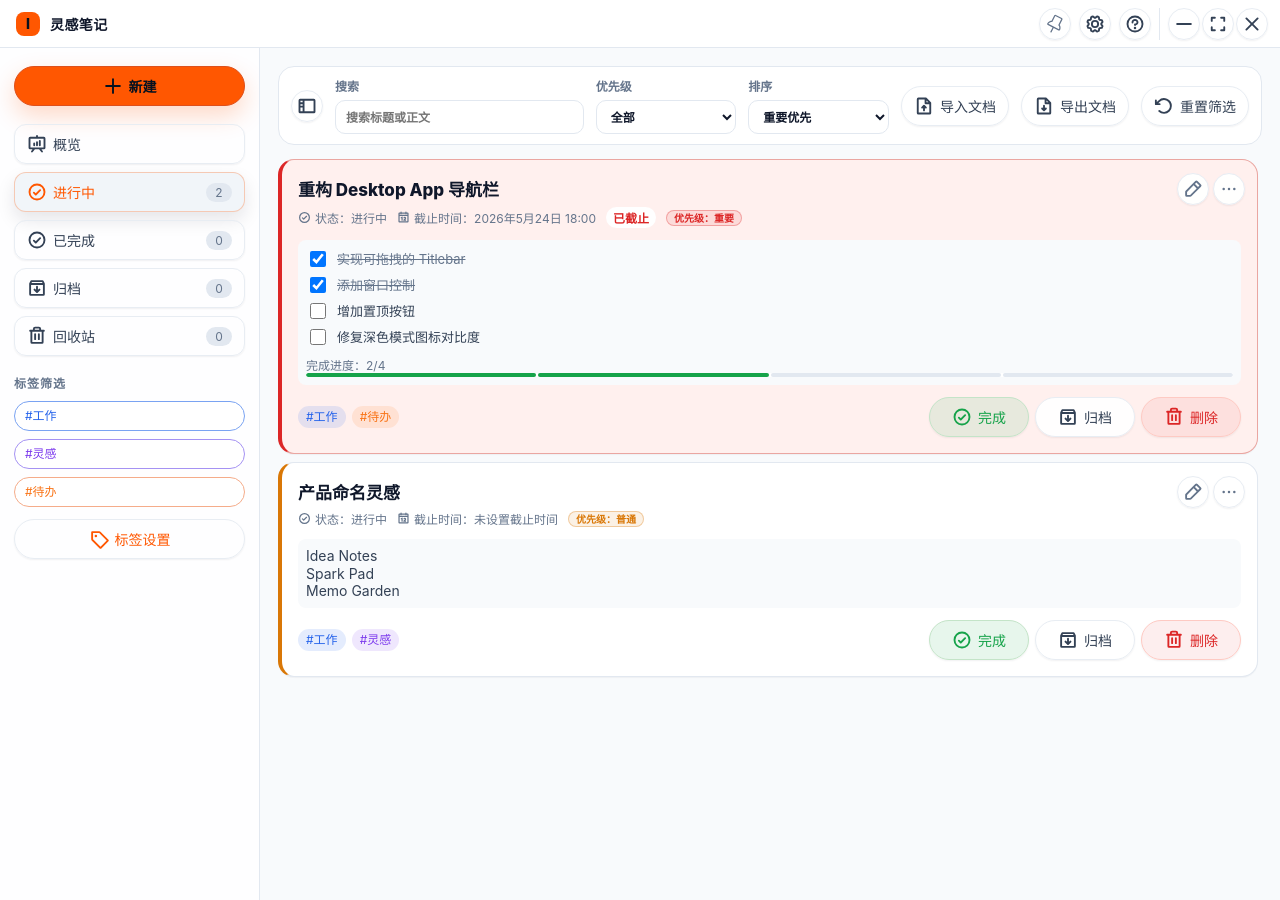
Test: App tags failure › 标签页旧输入错误不遮挡后续保存失败提示
Click the button "标签设置".
click(130, 539)  # box [14,519,245,559]
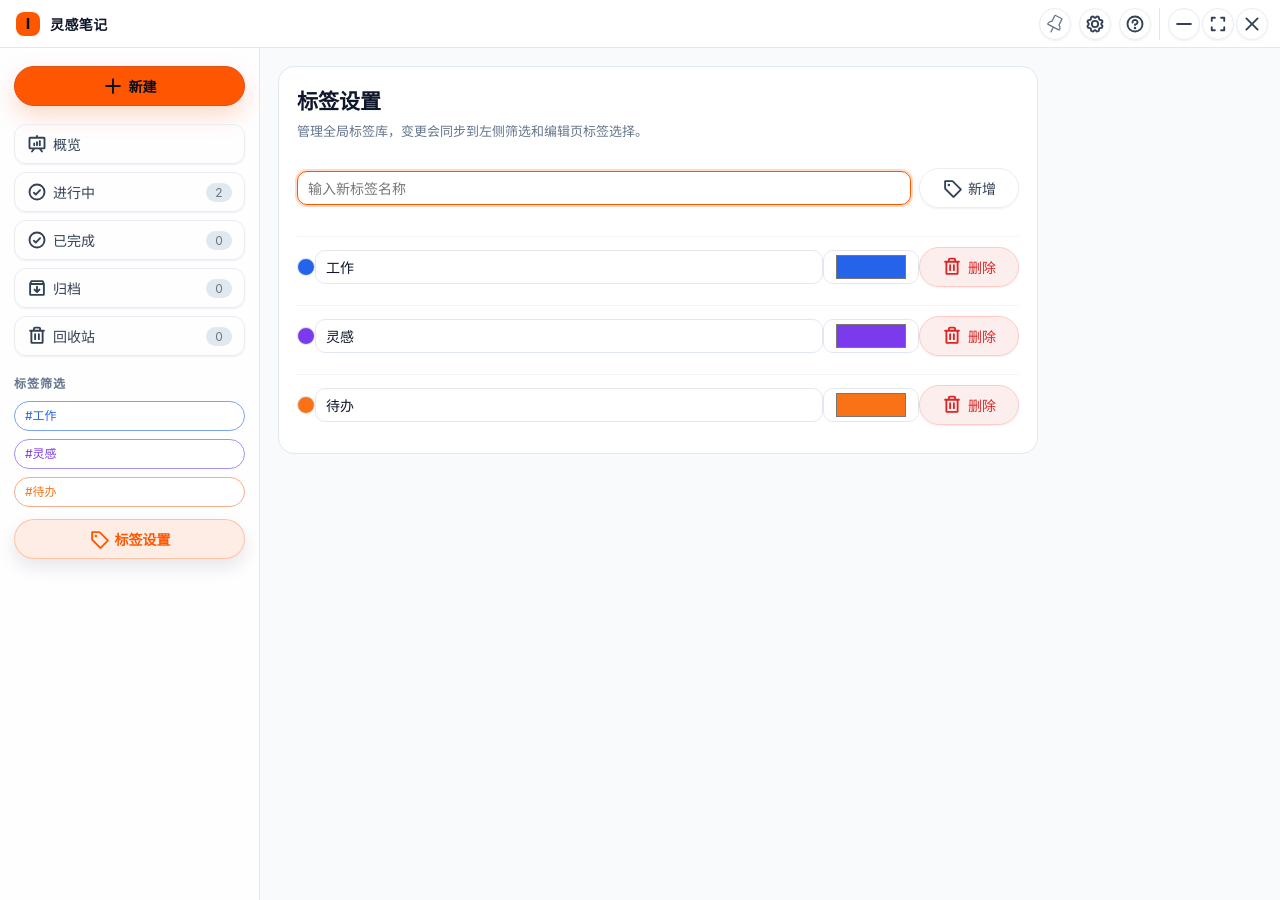
Type "工作" into the field with placeholder "输入新标签名称".
click(604, 188); type("工作")  # box [297,171,911,205]
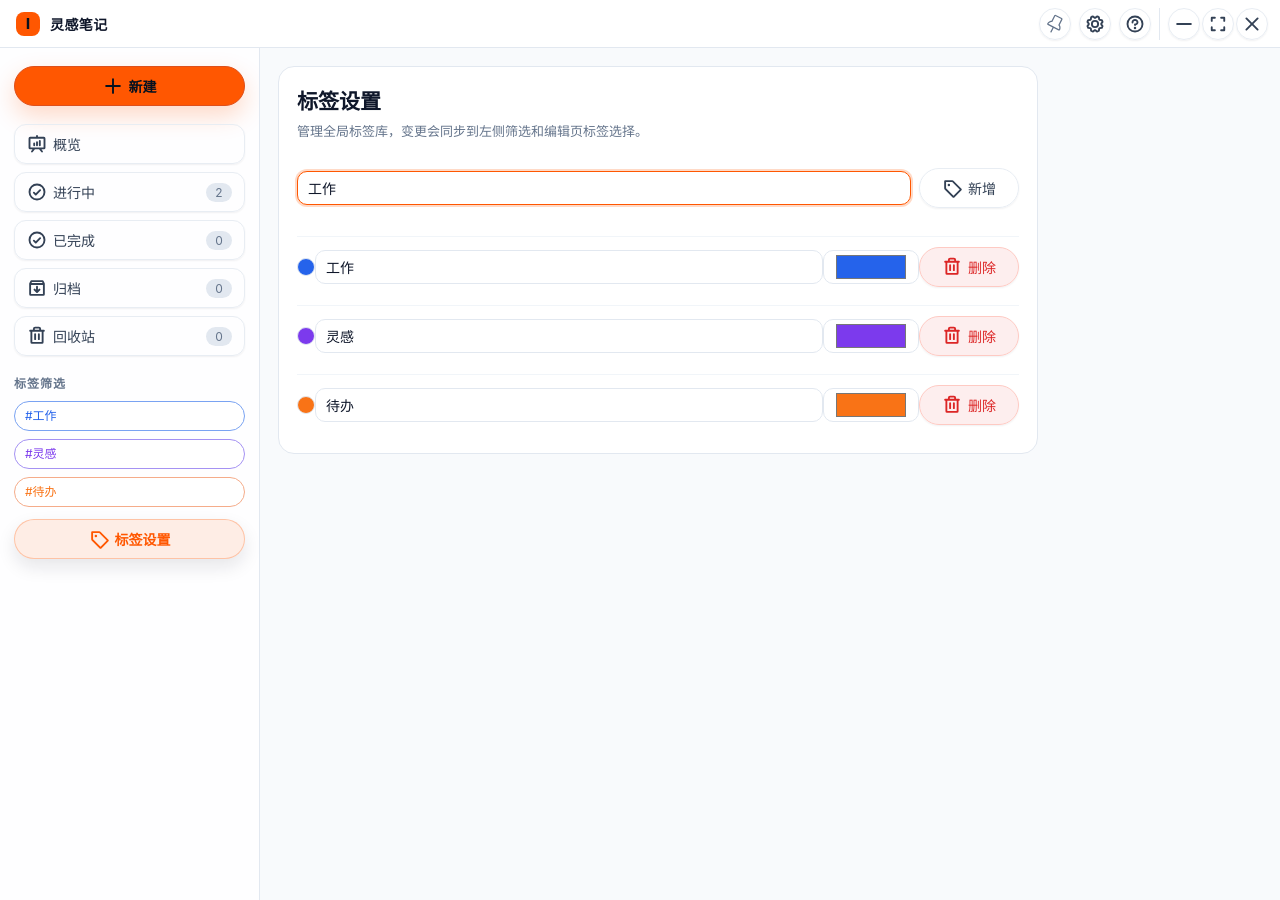
Click the button "新增".
click(969, 188)  # box [919,168,1019,208]
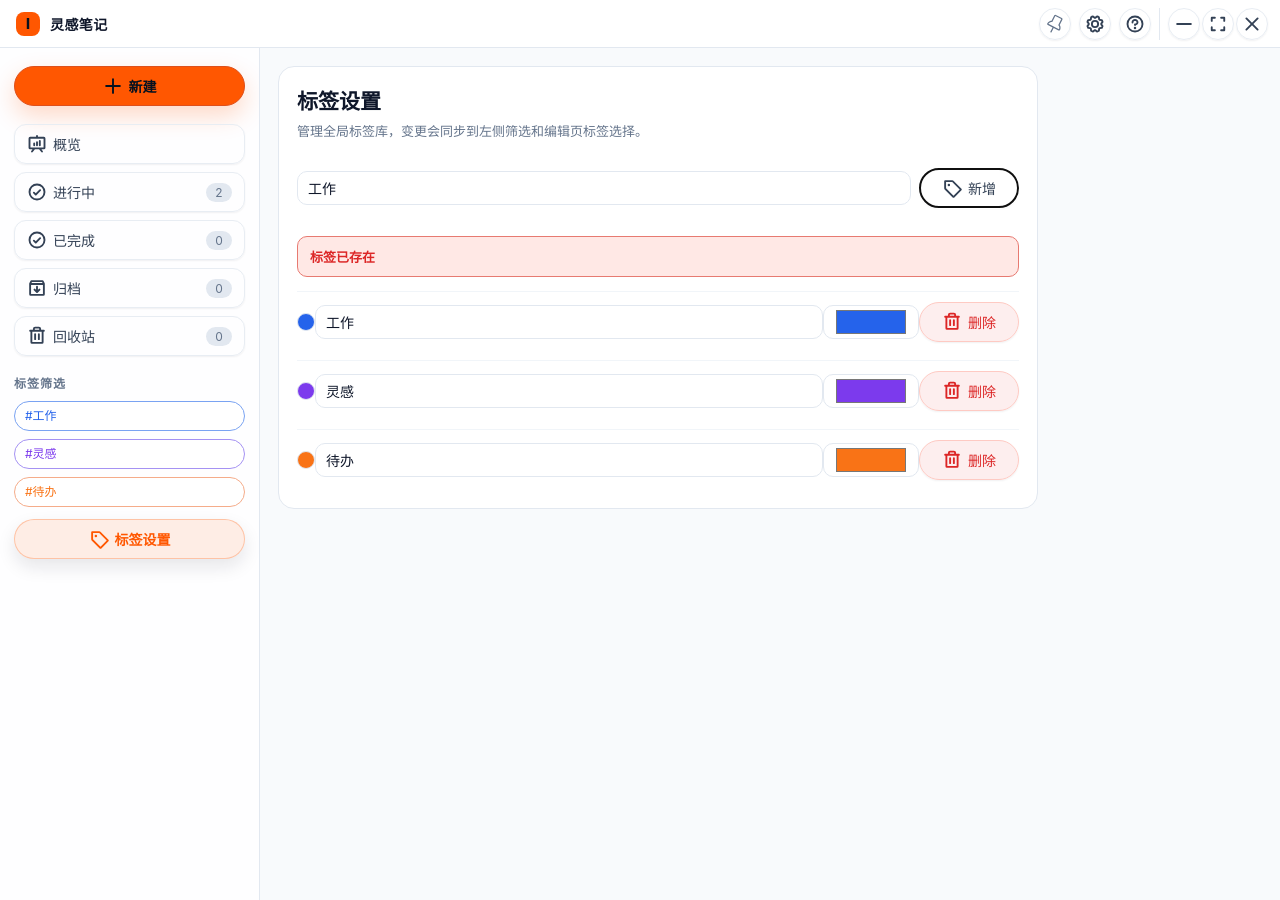
Now the message reads "标签已存在", box [310,249,375,265]
Replace the text in the field named "标签 工作" with "项目" at (569, 322), box [315,305,823,339]
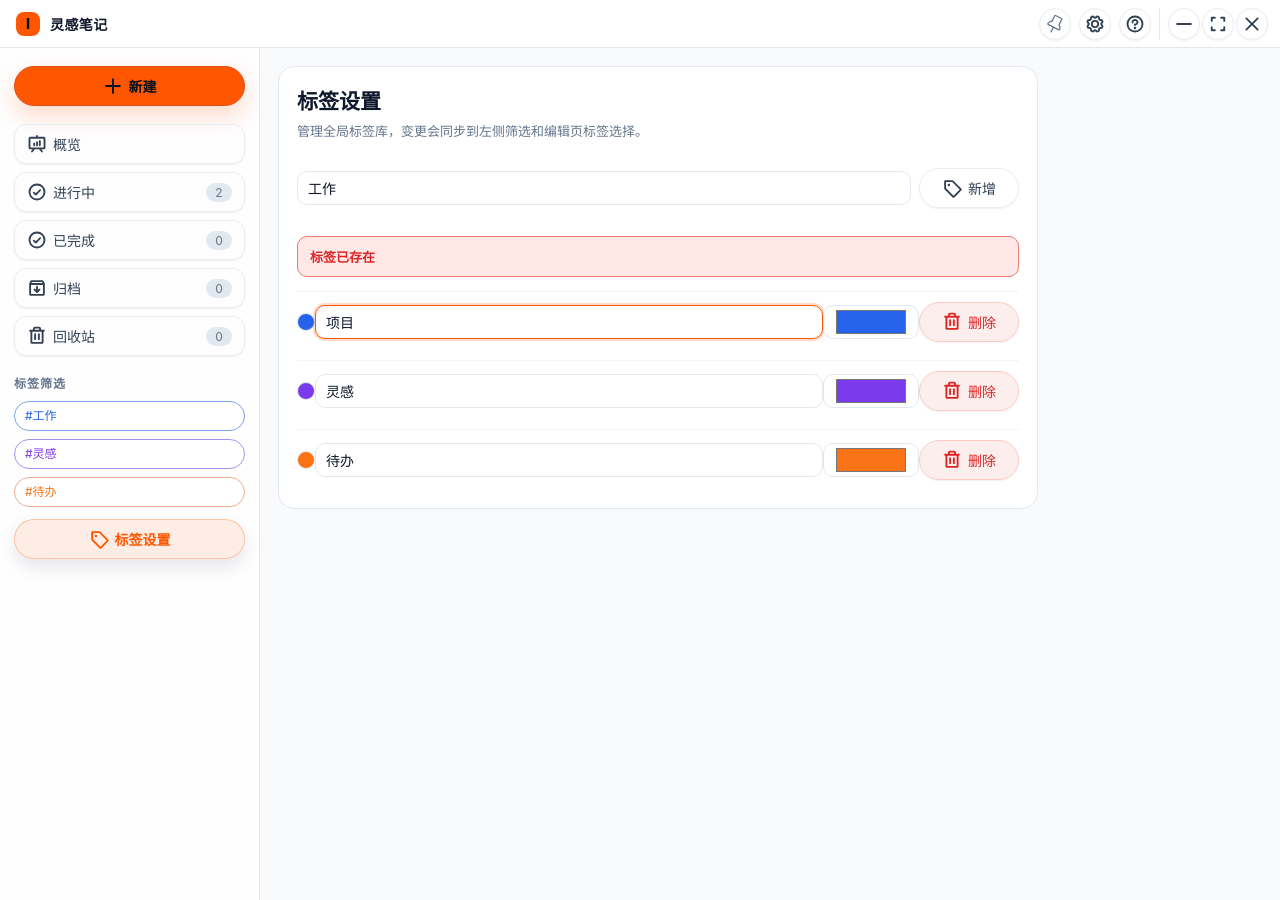
Press Tab
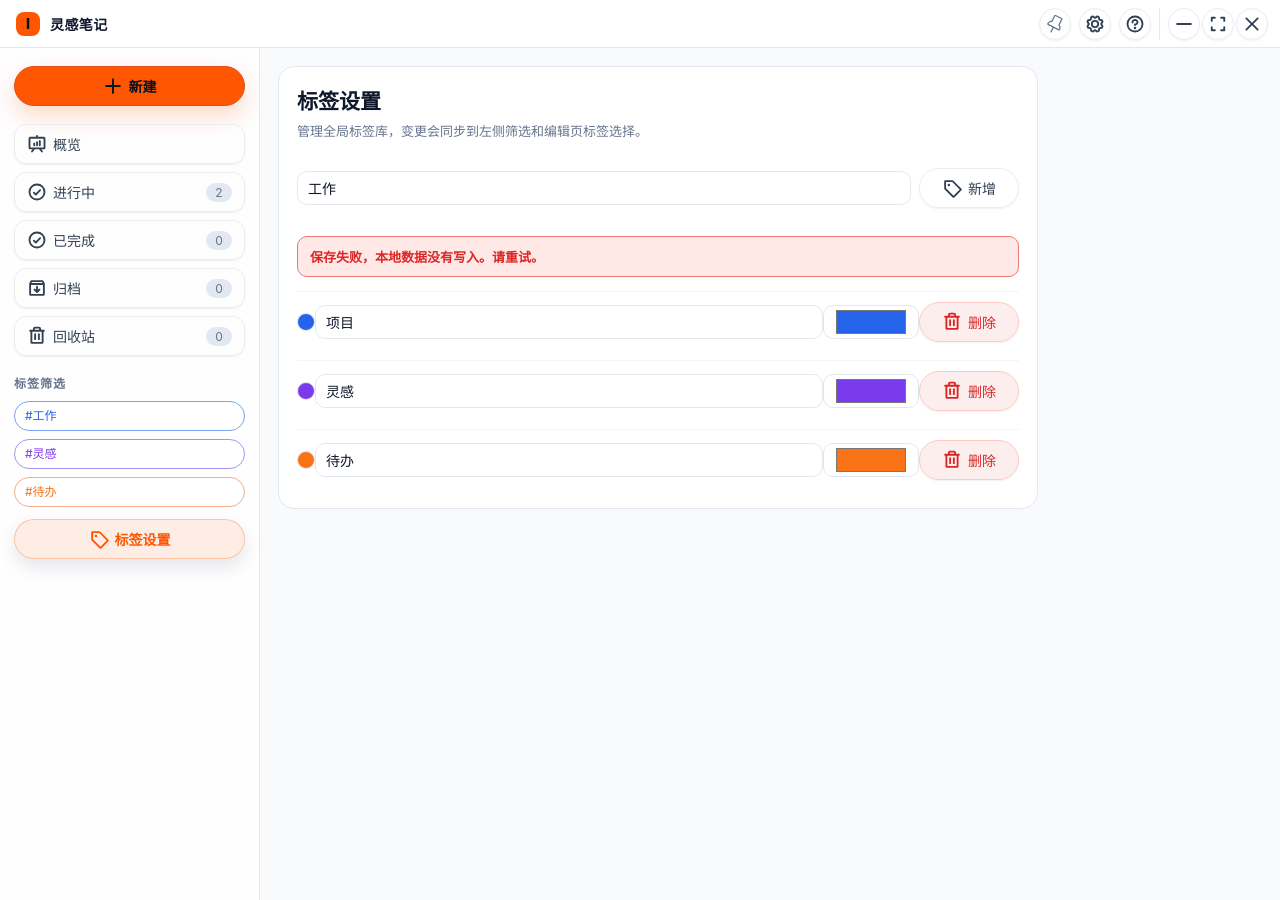
Now the message reads "保存失败，本地数据没有写入。请重试。", box [310,249,544,265]
